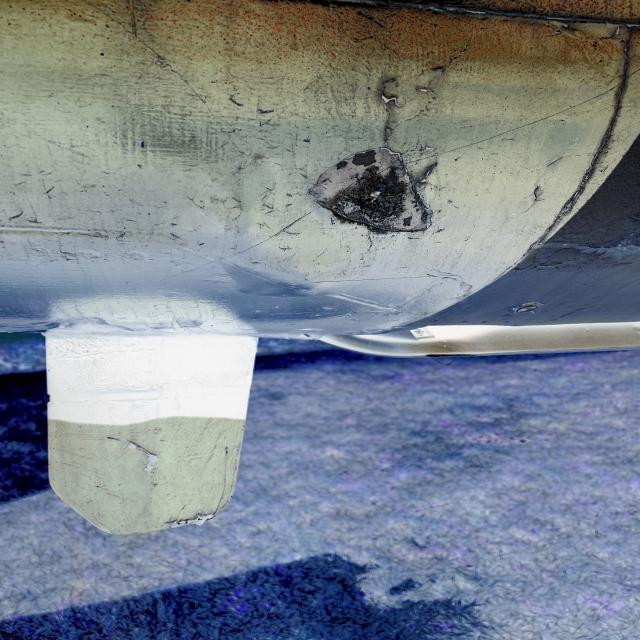crack: (376, 73, 439, 116)
dent: (307, 150, 452, 243)
